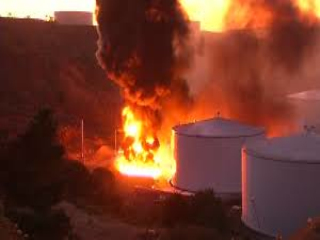fire: (105, 107, 177, 190)
smoke: (94, 4, 193, 107)
